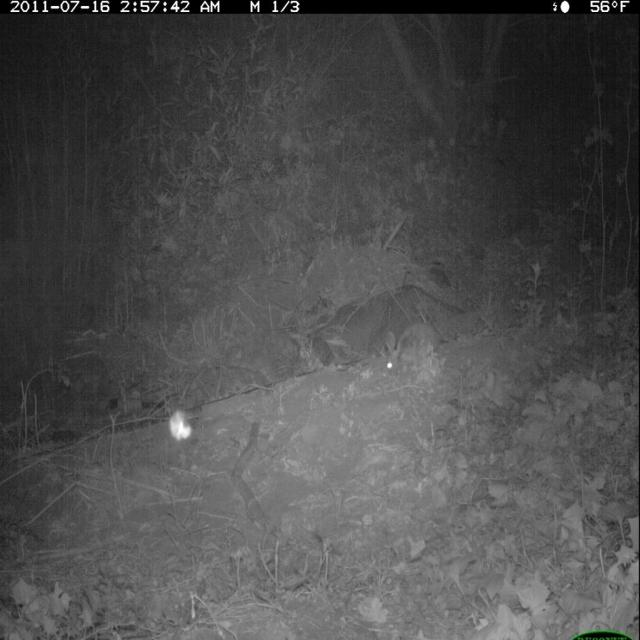rabbit: (382, 318, 445, 383)
